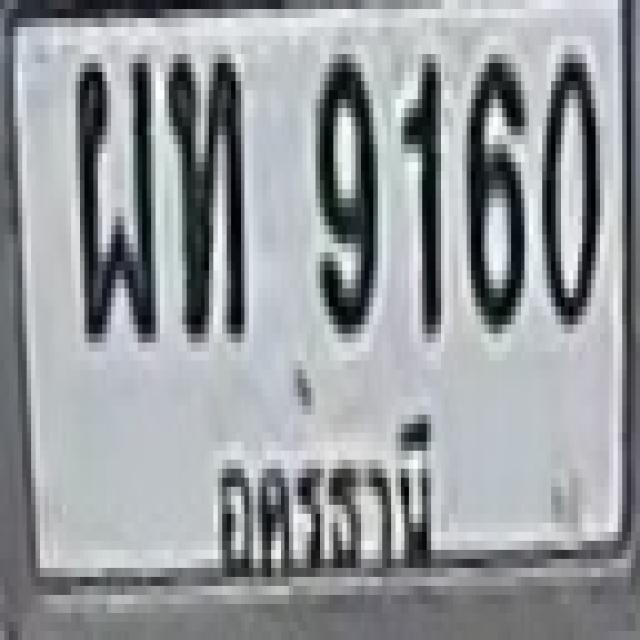-: (74, 54, 154, 343), (164, 45, 240, 334)
0: (538, 45, 596, 316)
1: (400, 50, 436, 329)
6: (462, 45, 520, 325)
9: (311, 45, 373, 325)
UDN: (207, 403, 452, 602)
